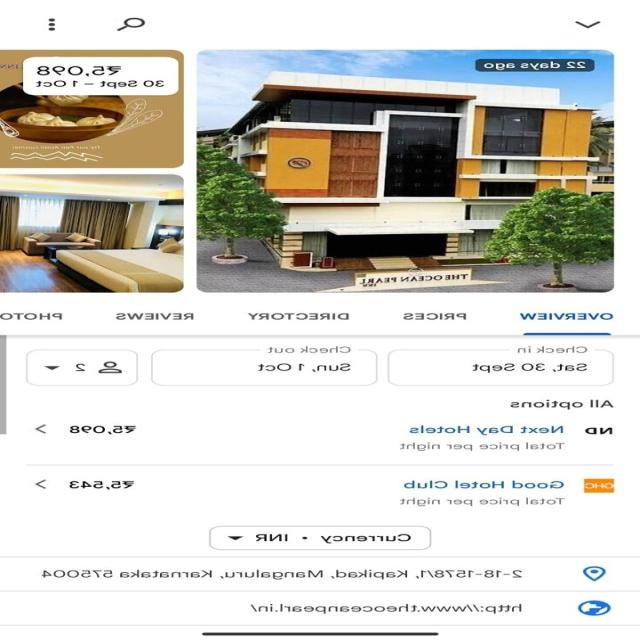Drawer: (0, 175, 182, 292), (0, 51, 181, 168), (110, 17, 148, 32), (578, 598, 609, 616), (580, 566, 608, 582), (572, 19, 602, 31), (44, 15, 60, 34), (32, 422, 50, 437), (31, 478, 50, 492)
EditText: (197, 50, 613, 292), (582, 478, 615, 493), (584, 424, 616, 436)
Icon: (240, 603, 526, 613), (405, 425, 564, 437), (401, 480, 568, 490)
Modal: (34, 568, 530, 580), (396, 440, 567, 453), (395, 495, 567, 507), (504, 398, 617, 411), (68, 423, 136, 436), (66, 479, 136, 490)
